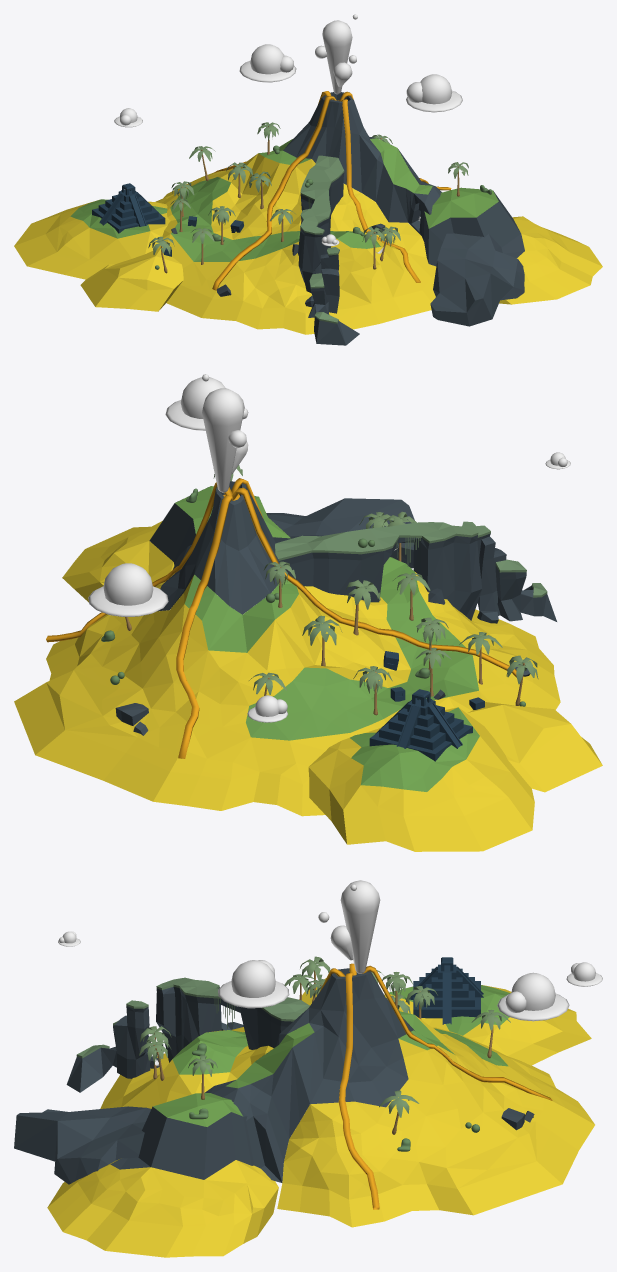
The model's file is AutreIle.fbx.
3 views of the same model, one above another, from view 1: azimuth 30°, elevation 25°; view 2: azimuth 150°, elevation 25°; view 3: azimuth 270°, elevation 25° (orthographic). The views are drawn at different scales.
Visible parts, largest first — view 1: Volacano_Sand; view 2: Volacano_Sand; view 3: Volacano_Sand.
Boxes of the visible parts, x1=… form: Volacano_Sand: x1=14, y1=14, x2=602, y2=345; Volacano_Sand: x1=14, y1=374, x2=602, y2=851; Volacano_Sand: x1=14, y1=880, x2=602, y2=1257.
Size of the model in its own units: 20296 by 9795 by 18620.
